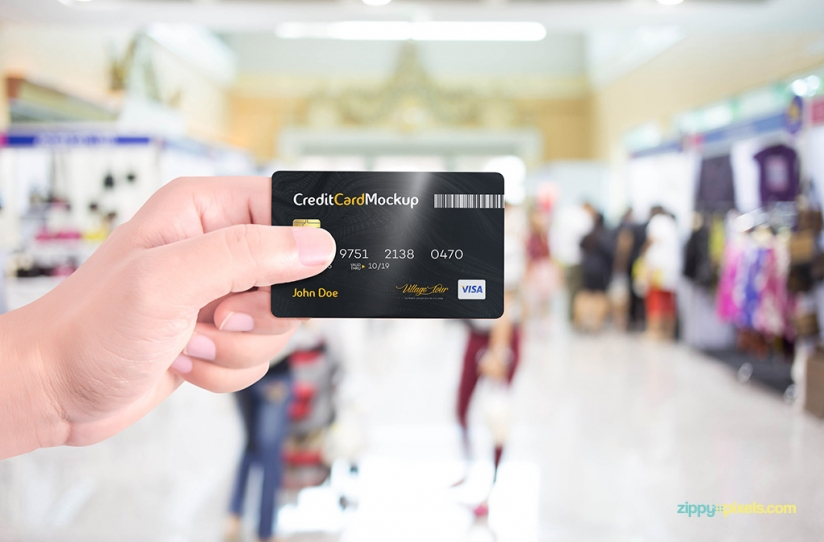tarjeta: (269, 169, 506, 320)
